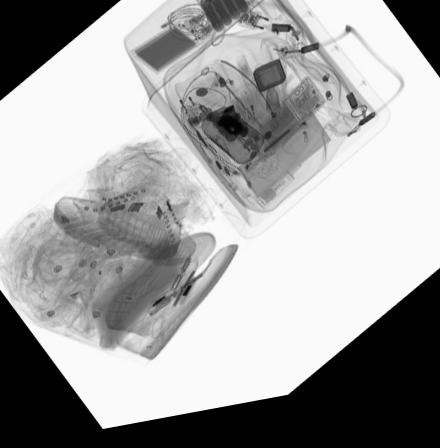Lighter: (239, 0, 257, 15)
